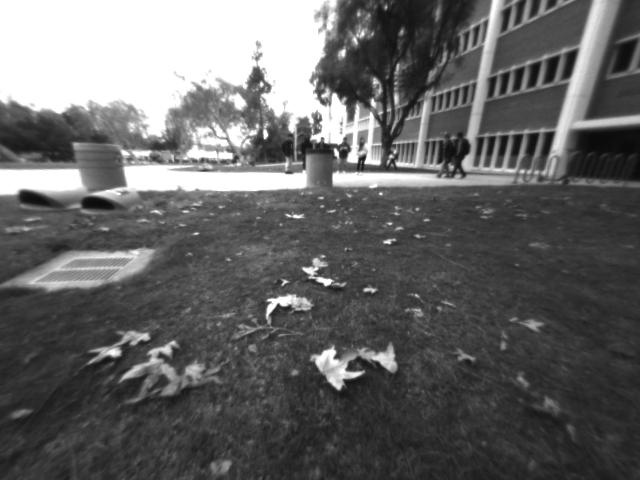trashcan: (75, 141, 127, 200), (306, 151, 332, 191)
